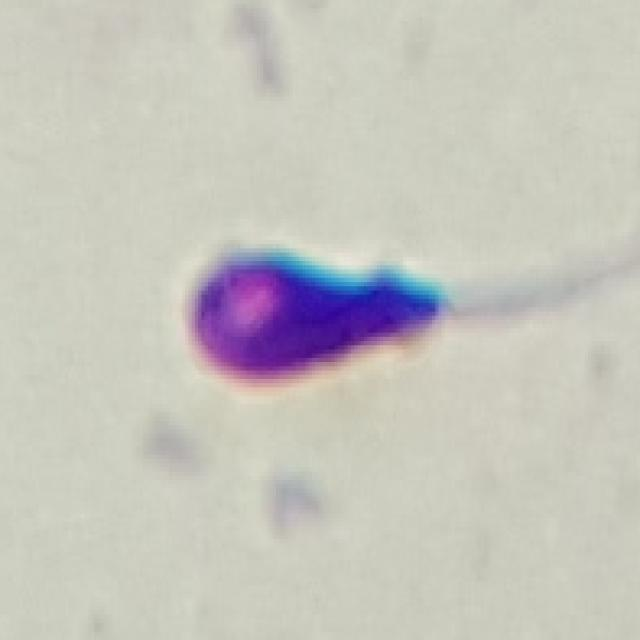abnormal sperm: (172, 223, 640, 396)
